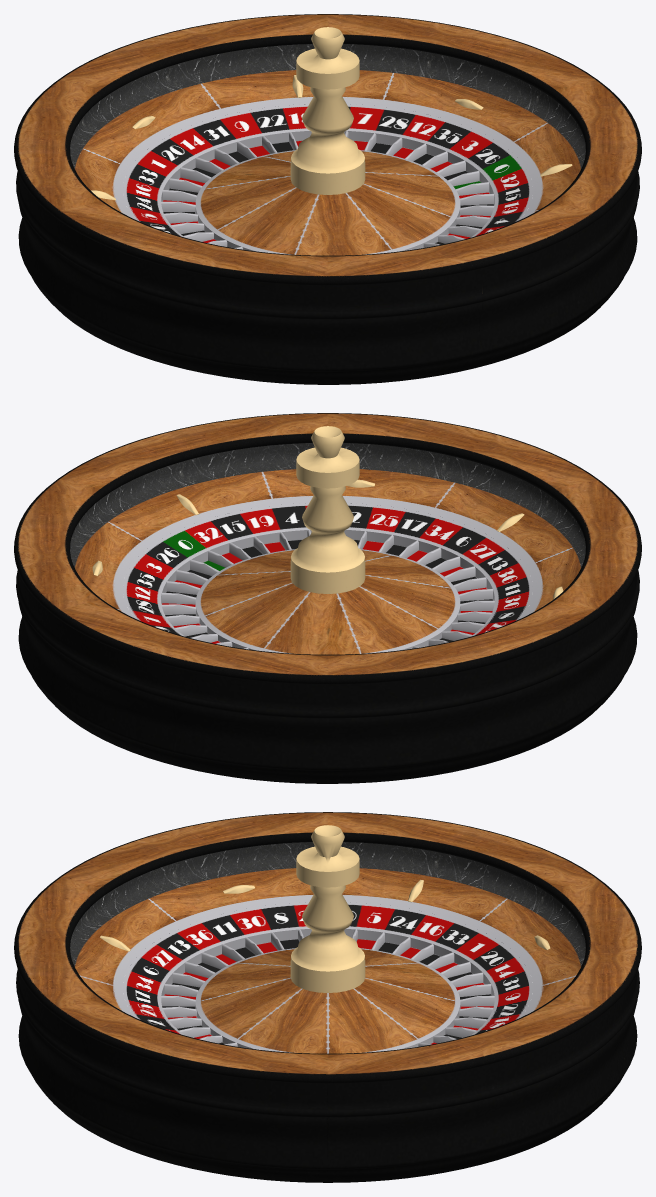
File: rou-lp-test-04.glb
3 views of the same model, one above another, from view 1: azimuth 30°, elevation 25°; view 2: azimuth 150°, elevation 25°; view 3: azimuth 270°, elevation 25° (orthographic).
Visible parts, largest first — view 1: geo1; view 2: geo1; view 3: geo1.
Boxes of the visible parts, x1=… form: geo1: x1=14, y1=14, x2=641, y2=384; geo1: x1=14, y1=413, x2=641, y2=783; geo1: x1=14, y1=812, x2=641, y2=1182.
Bounding box in the file's own units: 0.00839 × 0.00336 × 0.00839.
Materials: 3 (3 with a texture image).
